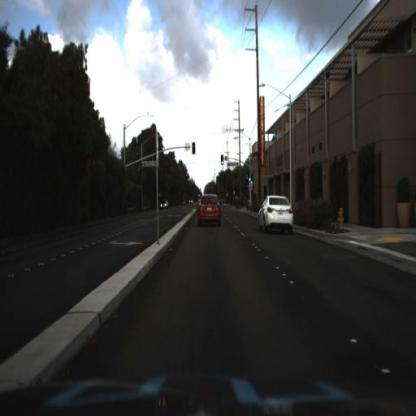car: (190, 189, 231, 235), (258, 191, 295, 239), (156, 198, 170, 214)
trafficLight-Green: (218, 153, 228, 173), (248, 176, 252, 188)
